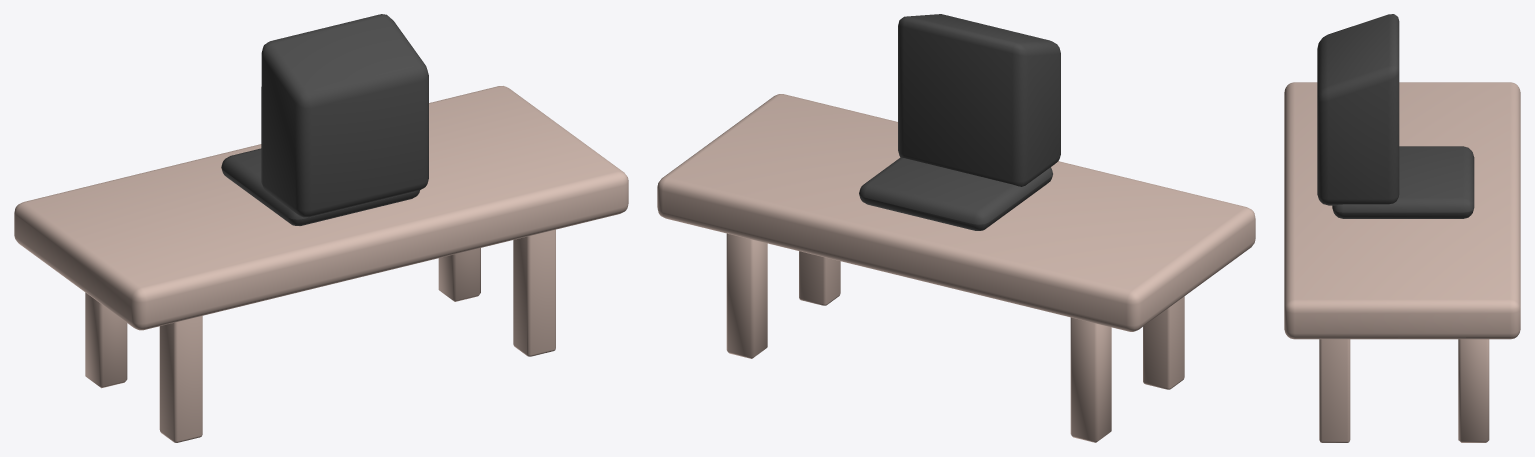
The model's file is table.fbx.
3 views of the same model, side by side, from view 1: azimuth 30°, elevation 25°; view 2: azimuth 150°, elevation 25°; view 3: azimuth 270°, elevation 25° (orthographic). The views are drawn at different scales.
Parts seen in each view (by area): view 1: Table Top, Cube.003, Cube.001, Cube.002; view 2: Table Top, Cube.003, Cube.002, Cube.001; view 3: Table Top, Cube.003, Cube.001, Cube.002.
Boxes of the visible parts, x1,y1,x2,y2 form: Table Top: (14, 86, 628, 330); Cube.003: (221, 14, 428, 225); Cube.001: (159, 229, 555, 442); Cube.002: (85, 248, 480, 388); Table Top: (657, 94, 1255, 331); Cube.003: (859, 14, 1060, 230); Cube.002: (726, 233, 1111, 442); Cube.001: (799, 251, 1184, 389); Table Top: (1284, 82, 1520, 339); Cube.003: (1317, 14, 1474, 218); Cube.001: (1319, 339, 1350, 442); Cube.002: (1458, 339, 1489, 442).
Bounding box in the file's own units: 356 × 234 × 158.
